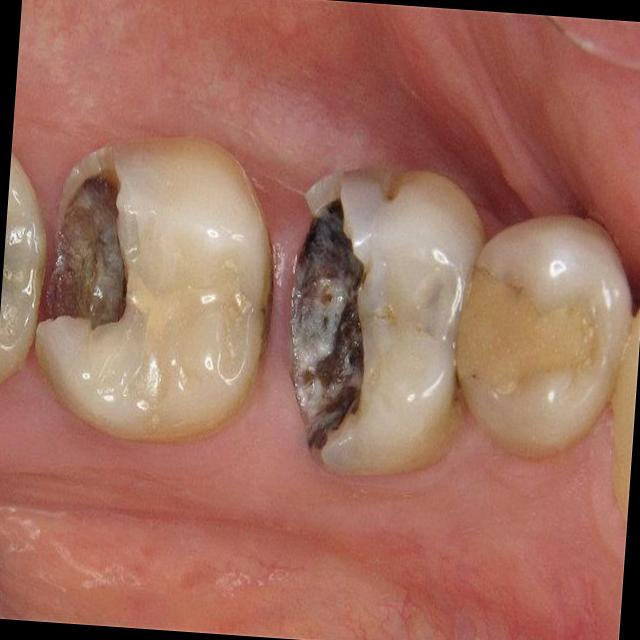Caries: (40, 174, 127, 324), (302, 272, 364, 390), (301, 201, 352, 293), (324, 386, 357, 425), (309, 427, 328, 450)
Cavity: (288, 197, 364, 454), (37, 146, 127, 330)
Tooth: (36, 135, 276, 441), (290, 169, 486, 473), (453, 214, 634, 460), (0, 153, 51, 380)
